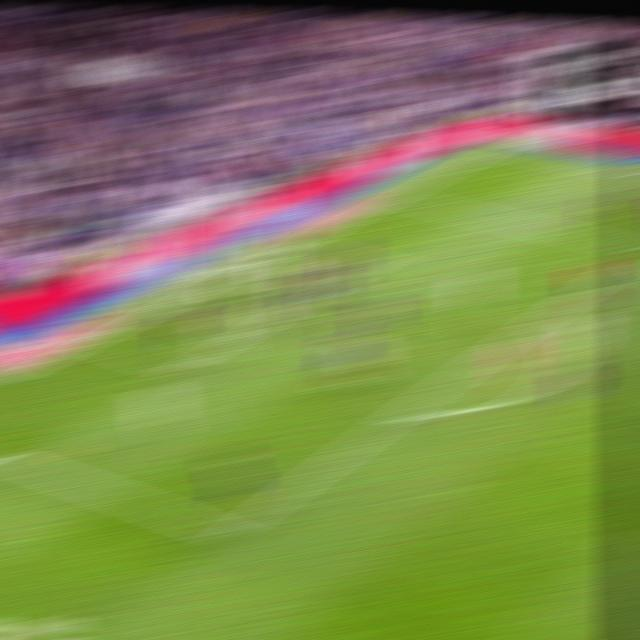bigarea_bottom_inner: (209, 518, 246, 549)
bigarea_top_outter: (383, 189, 413, 202)
bottom_arc_area_intersection: (383, 401, 418, 426)
corner: (482, 142, 514, 154)
smallarea_top_inner: (362, 254, 394, 271)
top_arc_area_intersection: (529, 307, 561, 324)
